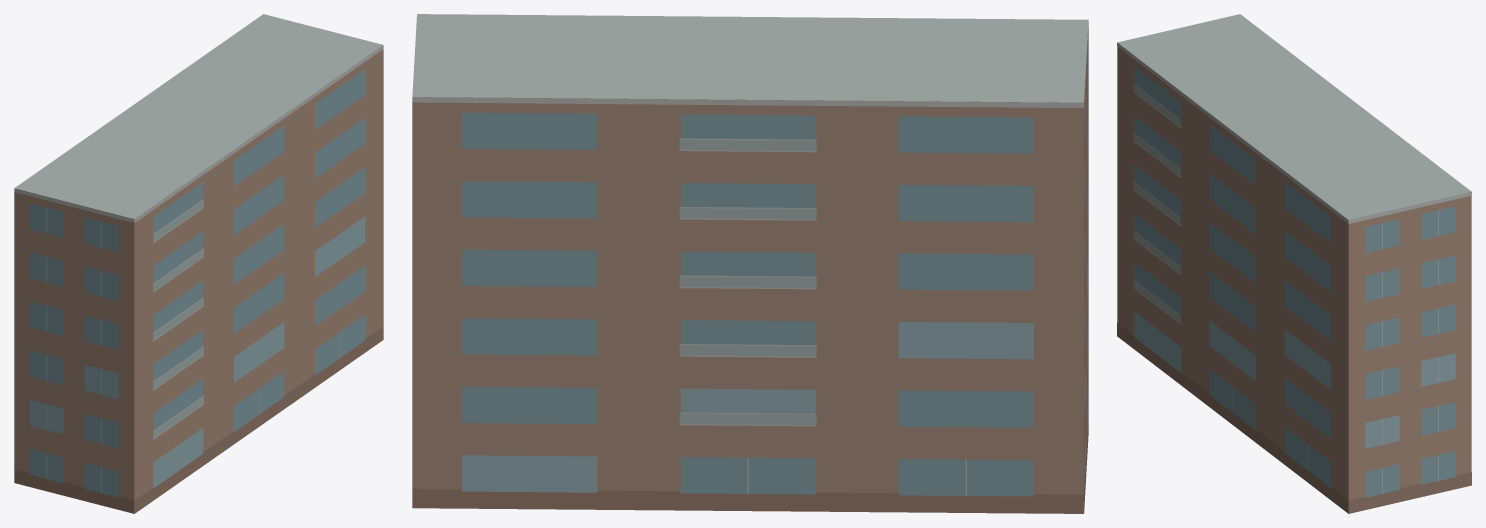
Rendered from survey-upis-32662847.glb.
The picture shows the model from 3 angles, left to right: view 1: azimuth 30°, elevation 25°; view 2: azimuth 150°, elevation 25°; view 3: azimuth 270°, elevation 25°; orthographic projection. The views are drawn at different scales.
Visible parts, largest first — view 1: survey-upis-32662847.tmp; view 2: survey-upis-32662847.tmp; view 3: survey-upis-32662847.tmp.
Part boxes in pixels (<box>): survey-upis-32662847.tmp: <box>14,14,383,513</box>; survey-upis-32662847.tmp: <box>412,14,1088,513</box>; survey-upis-32662847.tmp: <box>1117,14,1471,513</box>.
Size of the model in its own units: 27.54 by 18.3 by 20.03.
